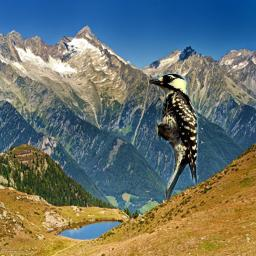Woodpecker: (146, 73, 201, 203)
